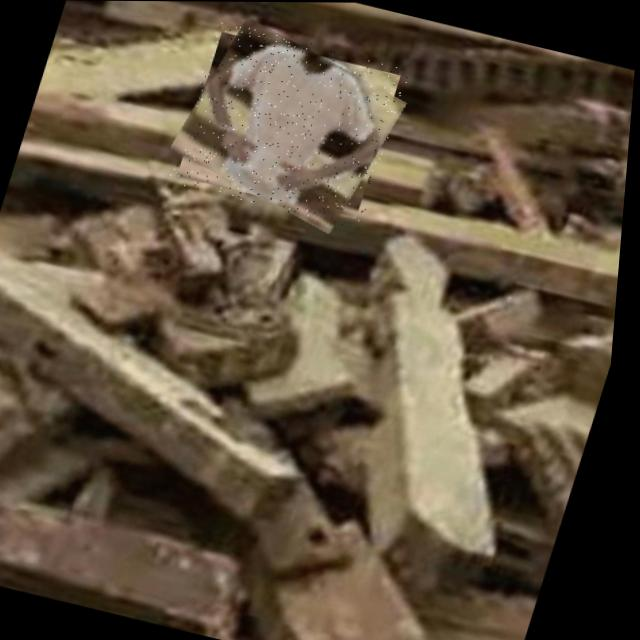Person in Rubble: (166, 20, 414, 230)
